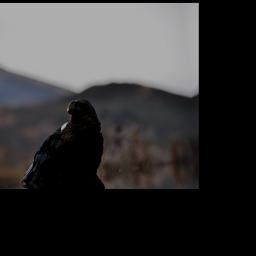Crow: (10, 94, 109, 184)
